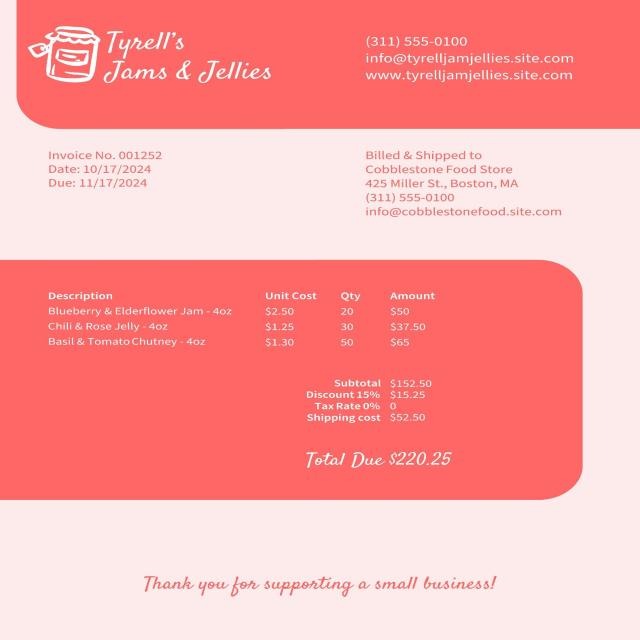paragraph: (121, 554, 529, 614), (25, 16, 282, 99), (353, 144, 582, 231), (343, 19, 593, 96), (292, 374, 456, 434), (32, 142, 182, 194), (294, 447, 467, 482)
table: (16, 275, 474, 363)
